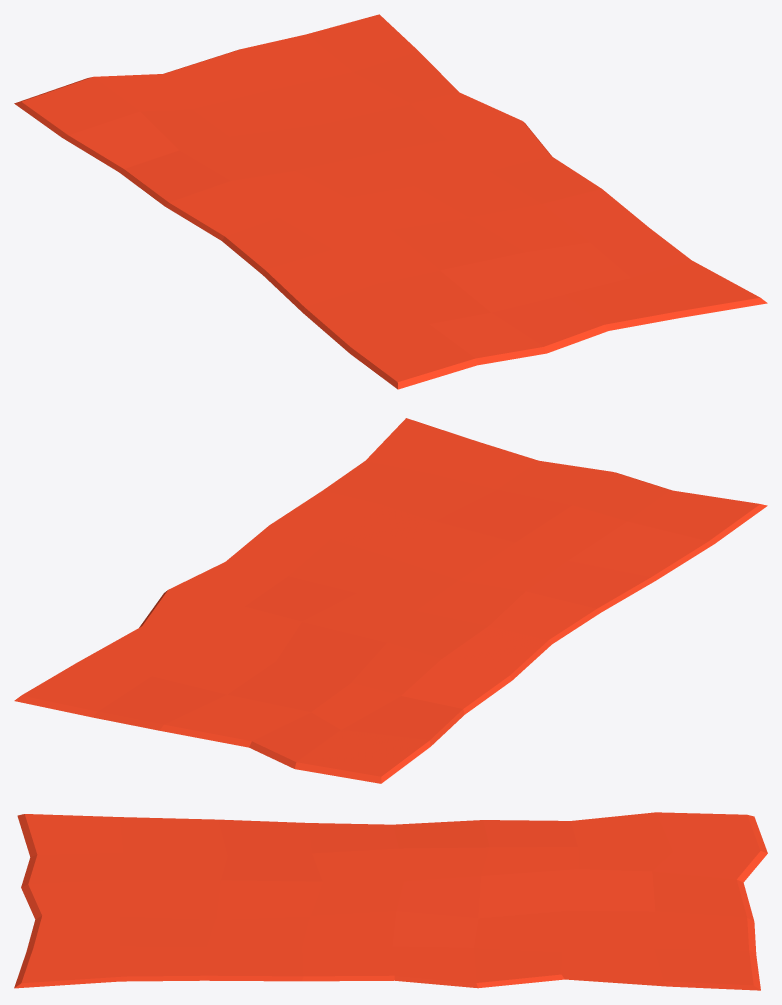
File: SM_Blanket_Beach_A_City.fbx
3 renders of one model, top to bottom at view 1: azimuth 30°, elevation 25°; view 2: azimuth 150°, elevation 25°; view 3: azimuth 270°, elevation 25°, orthographic. The views are drawn at different scales.
Visible parts, largest first — view 1: SM_Blanket_Beach_A_City; view 2: SM_Blanket_Beach_A_City; view 3: SM_Blanket_Beach_A_City.
Part boxes in pixels (bbox=[...]): SM_Blanket_Beach_A_City: bbox=[14, 14, 767, 389]; SM_Blanket_Beach_A_City: bbox=[14, 418, 767, 783]; SM_Blanket_Beach_A_City: bbox=[14, 812, 767, 990].
Size of the model in its own units: 1.07 by 0.0246 by 1.96.
